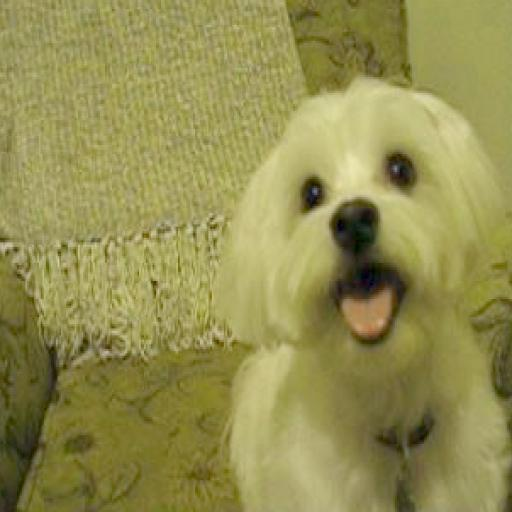dog_face: (229, 78, 500, 377)
